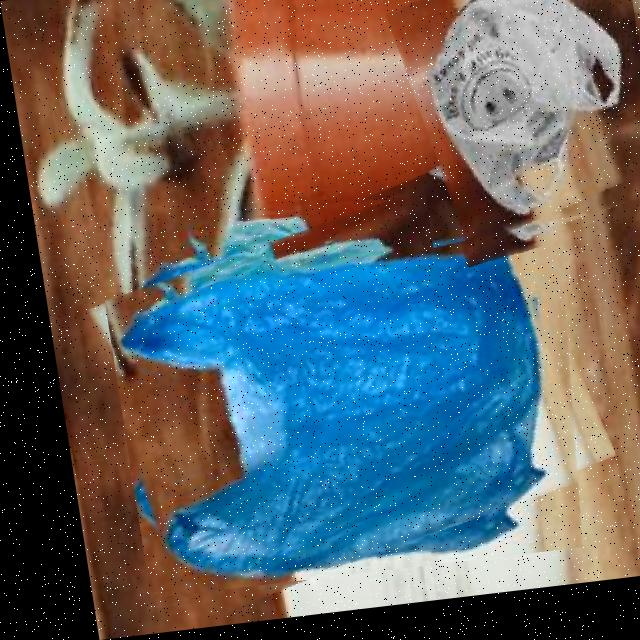litter: (85, 180, 592, 599), (391, 0, 640, 257)
